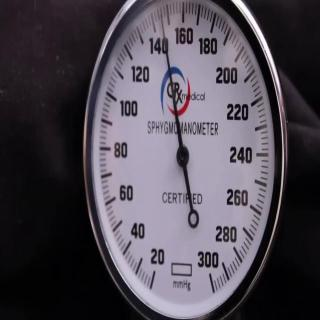gauge: (78, 0, 292, 320), (202, 267, 234, 306), (145, 265, 167, 297), (174, 145, 190, 167), (160, 23, 166, 31)
